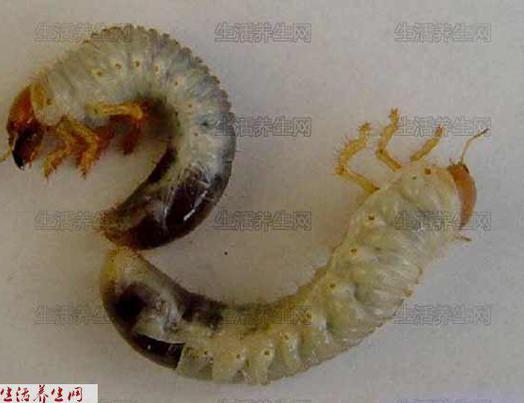grub: (1, 16, 249, 260)
